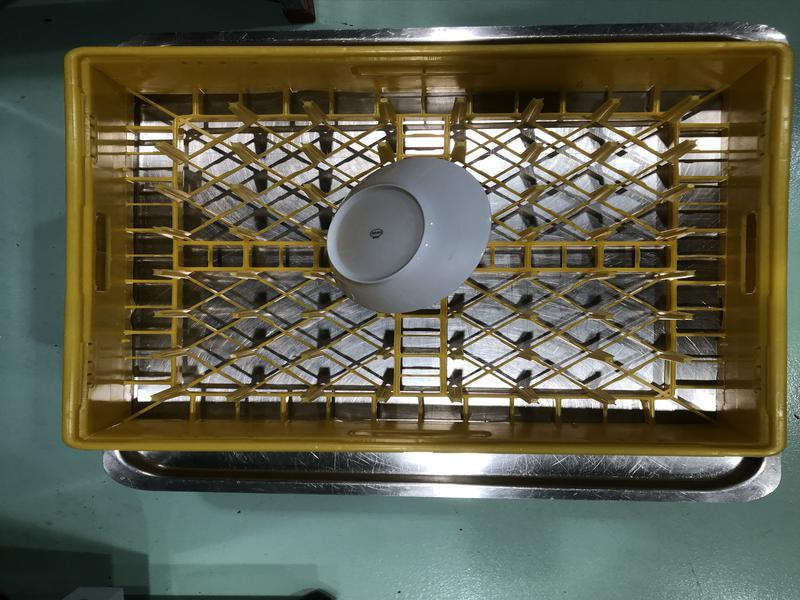Inclined_dish: (329, 156, 490, 311)
